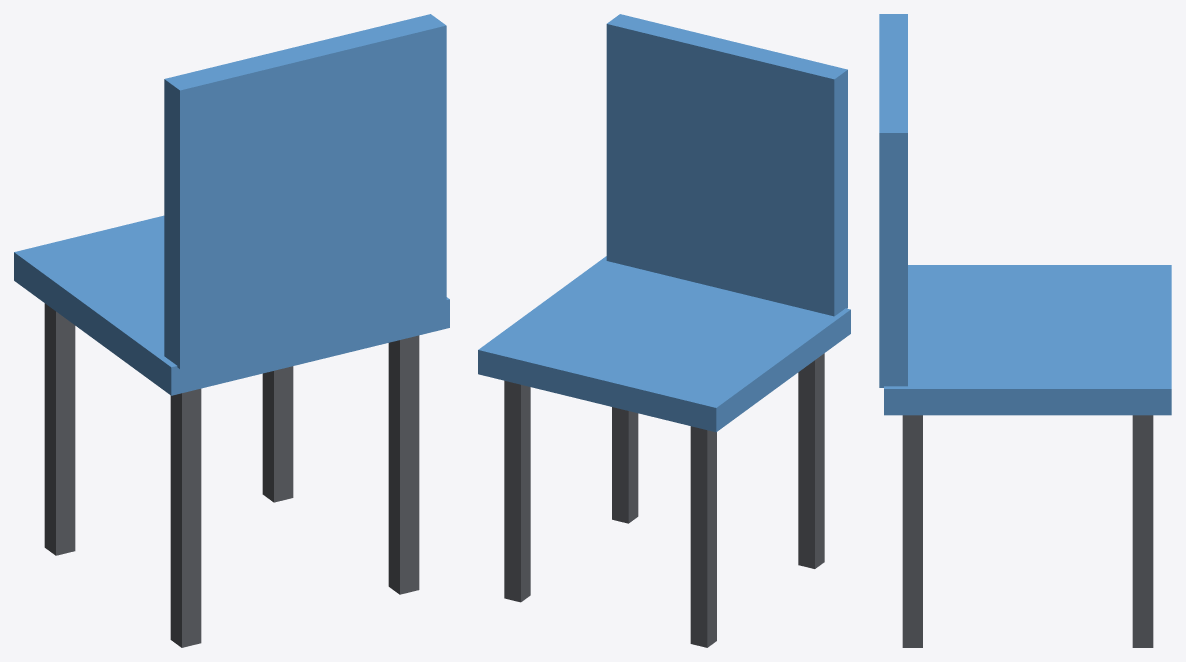
File: Prop_Chair_Blue.glb
The picture shows the model from 3 angles, left to right: view 1: azimuth 30°, elevation 25°; view 2: azimuth 150°, elevation 25°; view 3: azimuth 270°, elevation 25°; orthographic projection. The views are drawn at different scales.
Visible parts, largest first — view 1: Back, Seat, L_0.18_-0.18, L_-0.18_-0.18, L_-0.18_0.18, L_0.18_0.18; view 2: Back, Seat, L_-0.18_0.18, L_0.18_0.18, L_-0.18_-0.18, L_0.18_-0.18; view 3: Seat, Back, L_0.18_0.18, L_0.18_-0.18.
Part boxes in pixels (x1,y1,x2,y2): Back: (164,14,446,369); Seat: (14,215,449,395); L_0.18_-0.18: (388,335,419,594); L_-0.18_-0.18: (170,388,201,647); L_-0.18_0.18: (44,303,75,555); L_0.18_0.18: (262,366,293,502); Back: (606,14,847,316); Seat: (478,256,850,432); L_-0.18_0.18: (690,426,716,647); L_0.18_0.18: (504,380,530,602); L_-0.18_-0.18: (798,353,824,568); L_0.18_-0.18: (612,407,638,523); Seat: (884,265,1171,415); Back: (879,14,907,387); L_0.18_0.18: (1132,415,1153,647); L_0.18_-0.18: (902,415,922,647).
Size of the model in its own units: 0.46 by 0.9 by 0.4575.
